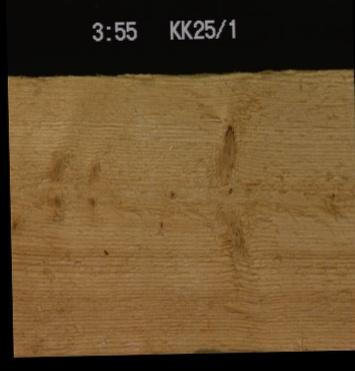small_knot: (9, 211, 26, 234), (81, 190, 99, 210), (153, 215, 166, 232), (325, 186, 338, 202), (164, 184, 176, 200)
